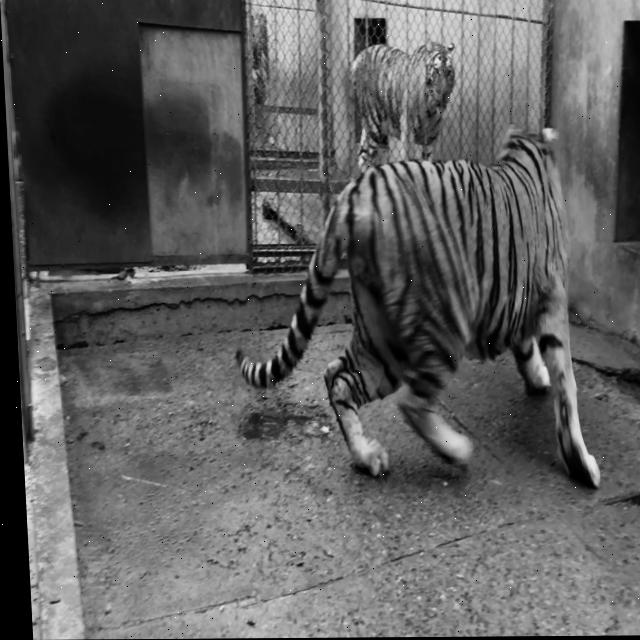Tiger: (261, 171, 639, 534), (342, 38, 462, 174)
